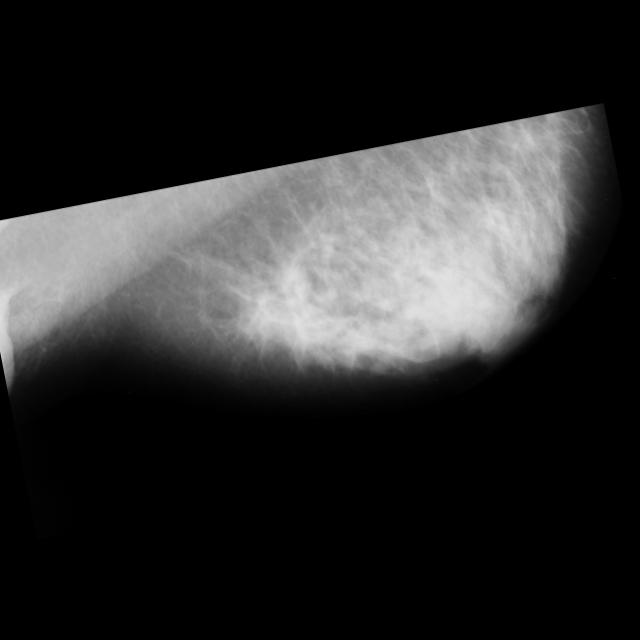ASYM: (0, 64, 323, 350)
